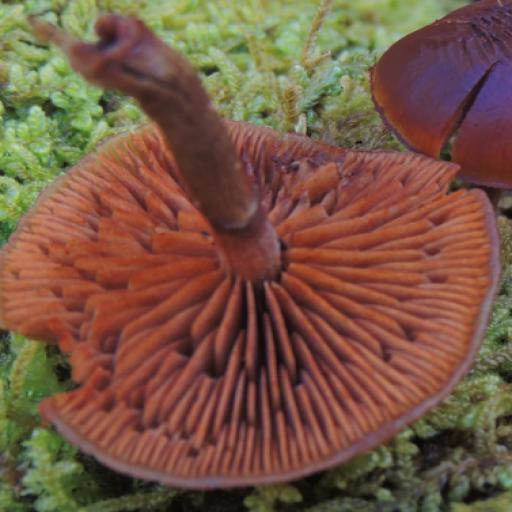mushroom: (18, 13, 491, 482)
